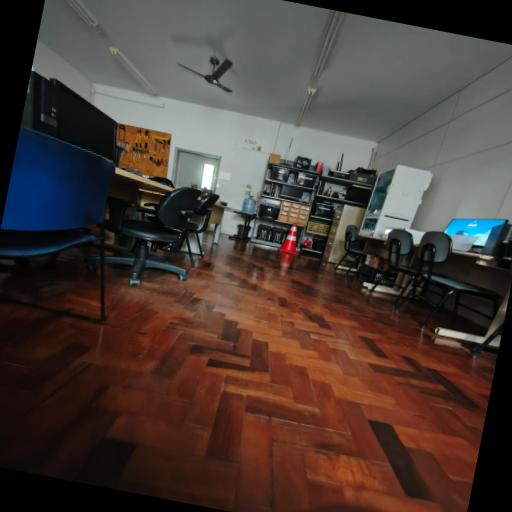cone: (276, 220, 308, 261)
